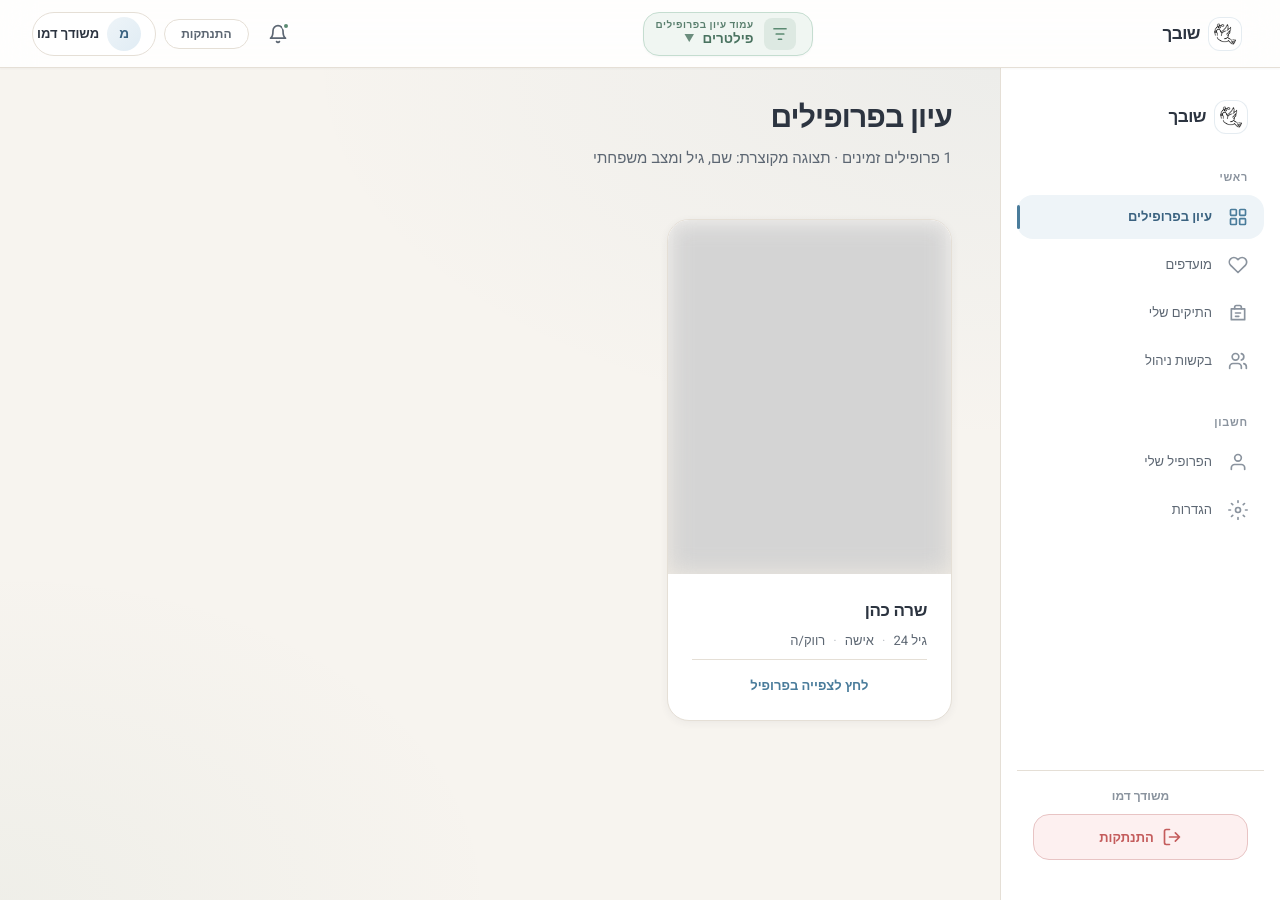
Test: opens profile details from grid
The image size is (1280, 900).
Click the button with aria-label "צפייה בפרופיל של" at {"x": 809, "y": 470}, box [667,219,952,721]
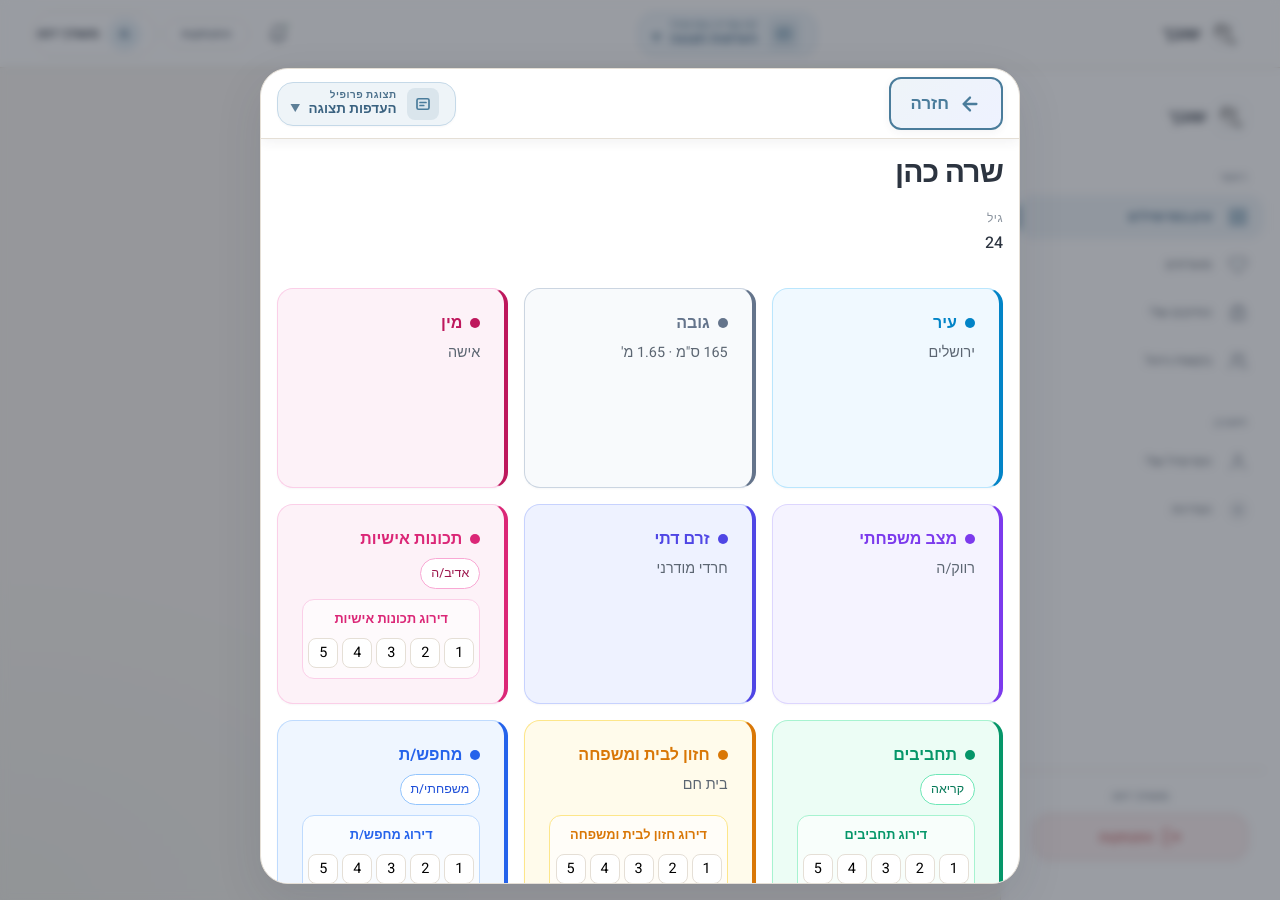
Check: the button "חזרה" is shown, box [889,77,1003,130]
